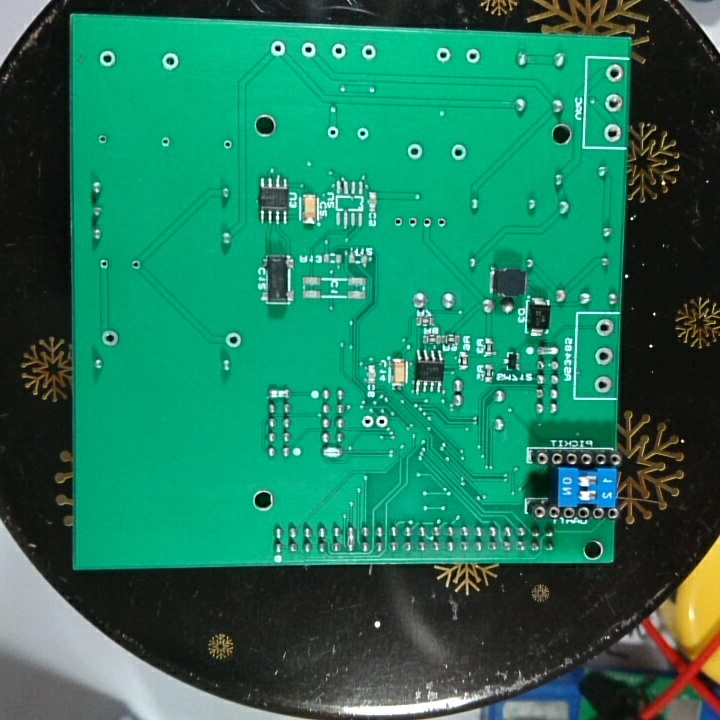F: (98, 325, 122, 351), (594, 316, 616, 340), (593, 346, 615, 369), (404, 139, 426, 162), (96, 48, 119, 70), (224, 329, 245, 352), (601, 123, 625, 143), (160, 51, 180, 73), (450, 140, 469, 163), (267, 39, 288, 58), (605, 63, 624, 83), (360, 42, 378, 63), (593, 374, 615, 391), (464, 46, 483, 65), (604, 92, 624, 110), (434, 45, 453, 63), (372, 413, 390, 431), (299, 41, 316, 60), (330, 42, 346, 60), (355, 124, 370, 141), (97, 257, 115, 271), (360, 412, 373, 431), (325, 123, 341, 138), (433, 215, 449, 229), (95, 132, 110, 146), (128, 258, 143, 272), (418, 215, 433, 229), (159, 135, 173, 149), (392, 215, 405, 230), (221, 136, 233, 152), (404, 216, 419, 228)
P: (264, 386, 293, 401), (534, 343, 562, 358), (320, 445, 343, 461), (345, 523, 356, 552)
